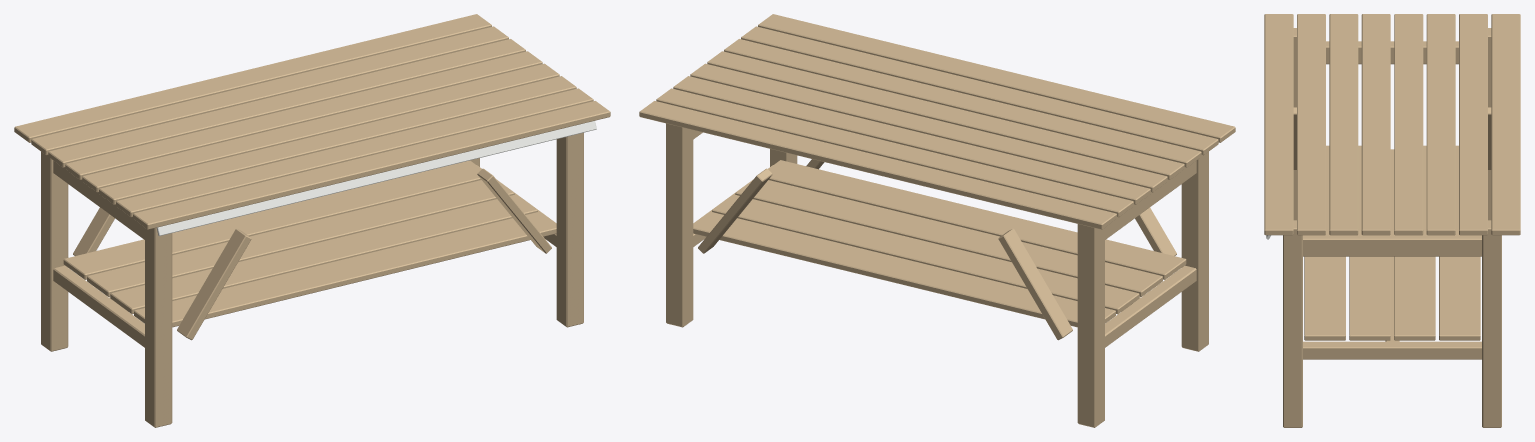
Rendered from garden-centre-and-florist-fixed-bench-1800-534712b7__17717.glb.
The picture shows the model from 3 angles, left to right: view 1: azimuth 30°, elevation 25°; view 2: azimuth 150°, elevation 25°; view 3: azimuth 270°, elevation 25°; orthographic projection. The views are drawn at different scales.
Visible parts, largest first — view 1: fixed-bench-1800; view 2: fixed-bench-1800; view 3: fixed-bench-1800.
Part boxes in pixels (<box>): fixed-bench-1800: <box>14,14,610,427</box>; fixed-bench-1800: <box>639,14,1235,427</box>; fixed-bench-1800: <box>1264,14,1520,427</box>.
Size of the model in its own units: 1.8 by 0.7999 by 0.9001.
